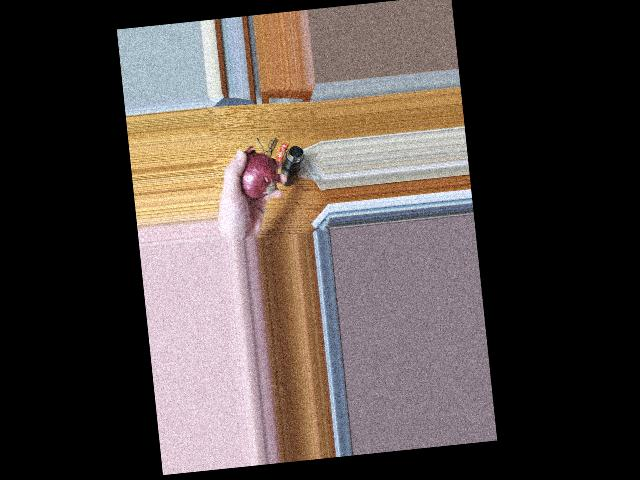onion: (232, 156, 274, 198)
